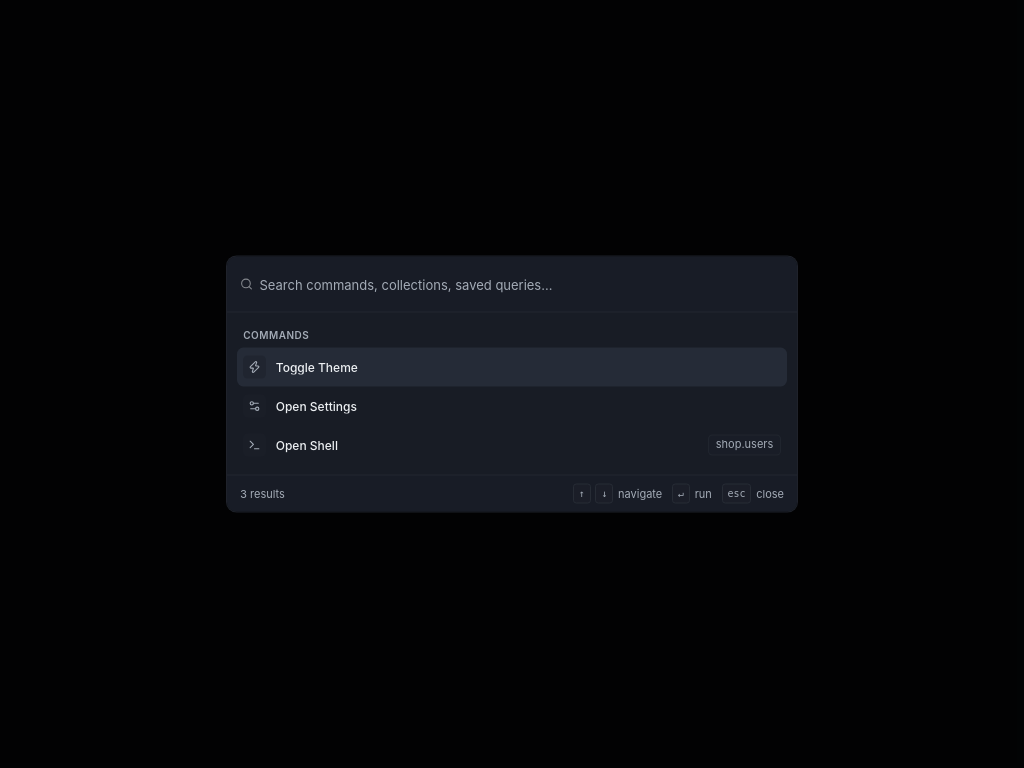
Test: CommandPalette › filters actions by title
Type "theme" into the dropdown with test id "command-palette-input". click: (522, 284)
box: [260,266,784,302]
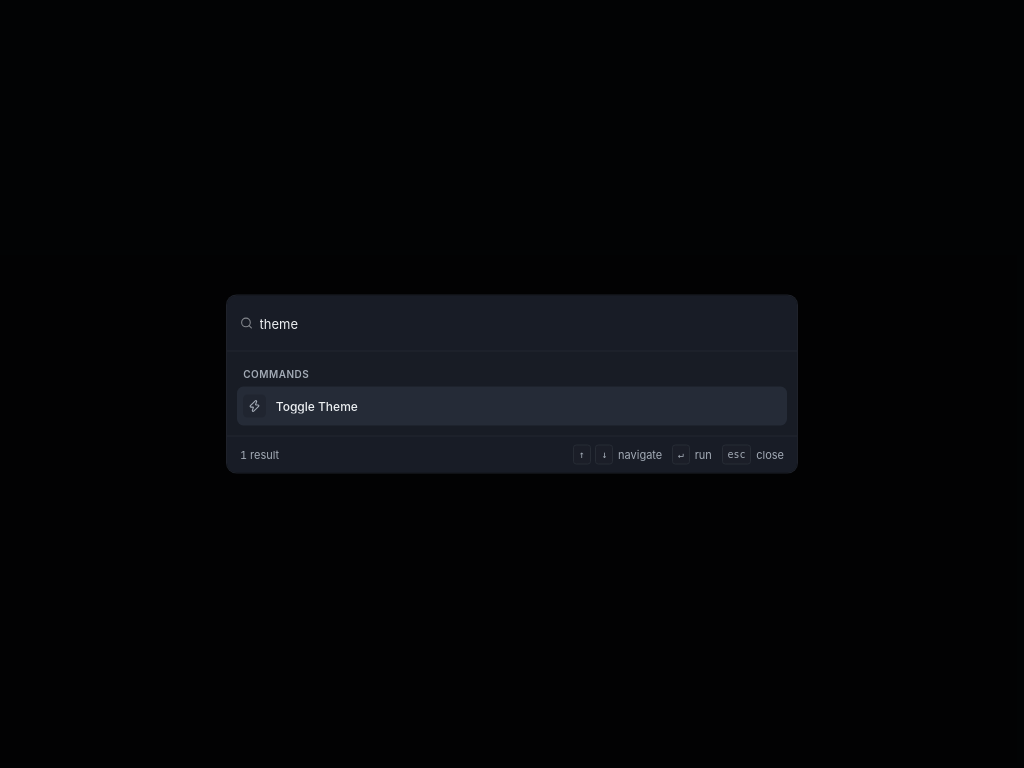
Expected: the text "Toggle Theme" is shown, [276,398,358,413]
Now the option "Open Settings" is gone
